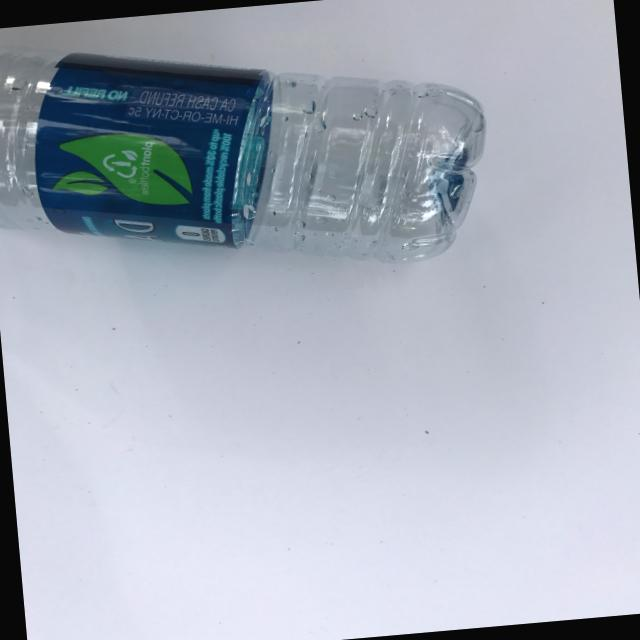Plastic: (0, 0, 601, 355)
